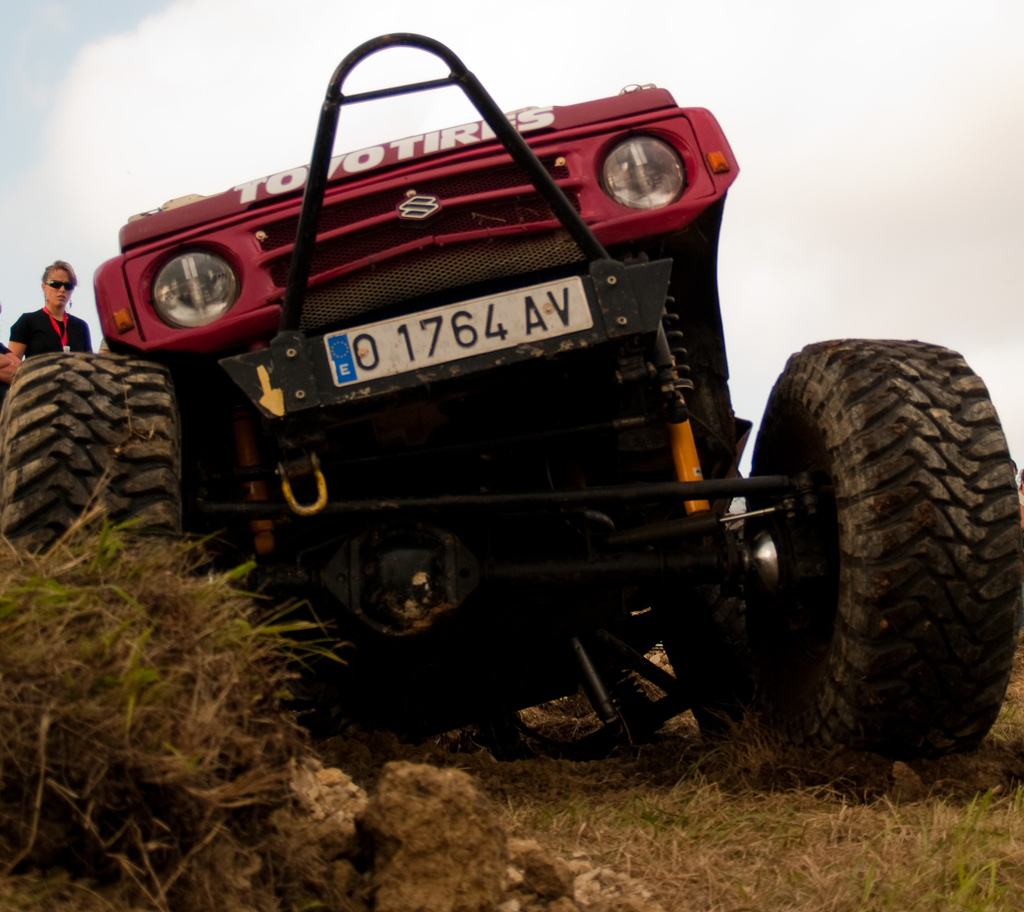person: (4, 258, 94, 361)
